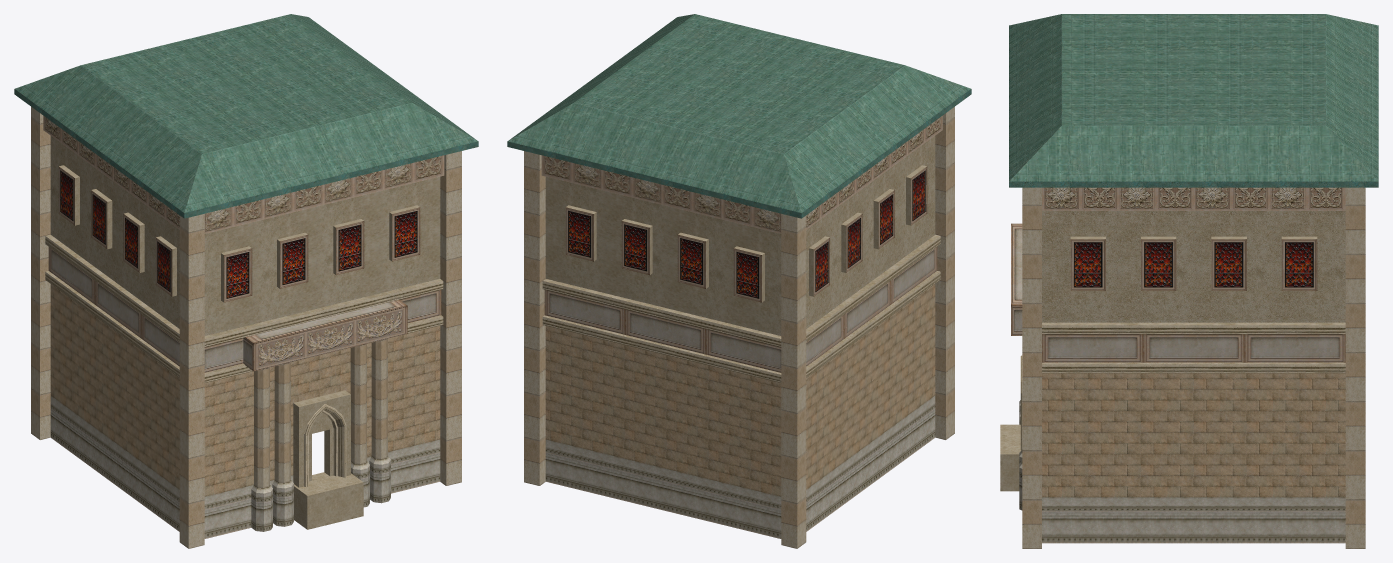
Rendered from thm_nboo_thed_imprv_building_s04_r0_mesh_l0.fbx.
3 views of the same model, side by side, from view 1: azimuth 30°, elevation 25°; view 2: azimuth 150°, elevation 25°; view 3: azimuth 270°, elevation 25° (orthographic). The views are drawn at different scales.
Parts seen in each view (by area): view 1: mesh_node; view 2: mesh_node; view 3: mesh_node.
Part boxes in pixels (<box>): mesh_node: <box>14,14,478,548</box>; mesh_node: <box>507,14,971,548</box>; mesh_node: <box>1000,14,1378,548</box>.
Bounding box in the file's own units: 21 × 25.5 × 21.5.
